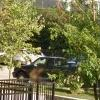Tree: (52, 7, 100, 96)
